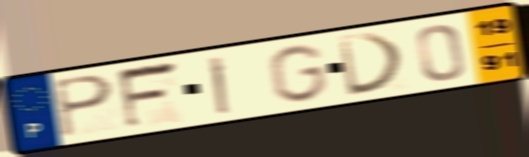0: (413, 22, 467, 83)
D: (335, 31, 409, 99)
F: (114, 58, 183, 132)
G: (265, 42, 330, 104)
I: (206, 53, 232, 117)
P: (51, 73, 117, 140)
